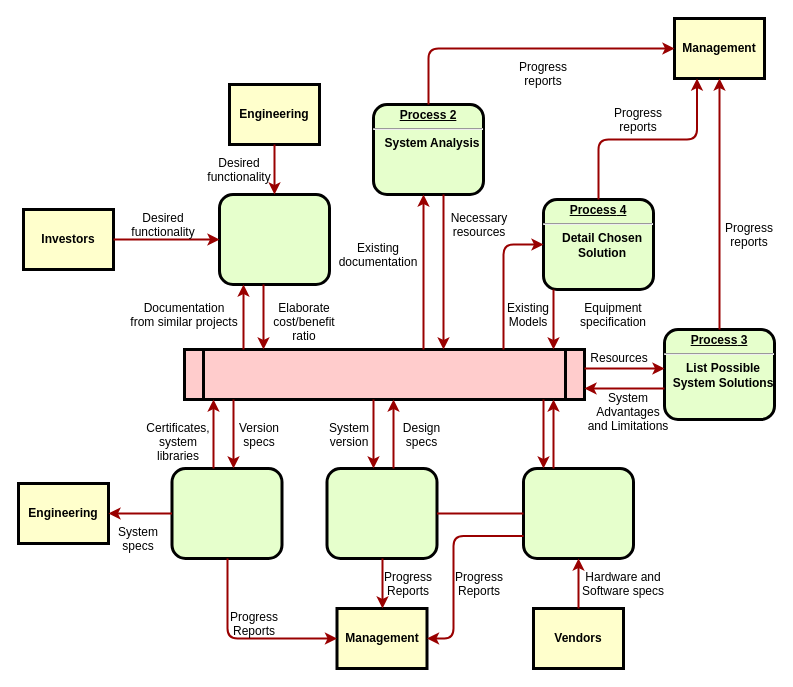
This 793x687 diagram has some shape labels left out. The shapes that lost their labels are listed below. From the top down, each one's box as (x1, y1, x2, y2) in pixels, then its label:
(218, 192, 330, 286): Process 1 System Study Preparation
(182, 348, 586, 400): FW 업그레이드 시작
(170, 466, 283, 560): Process 6 New System Construction
(325, 466, 438, 560): Process 7 New System Startup and Testing
(522, 466, 634, 560): Process 5 New System Design
